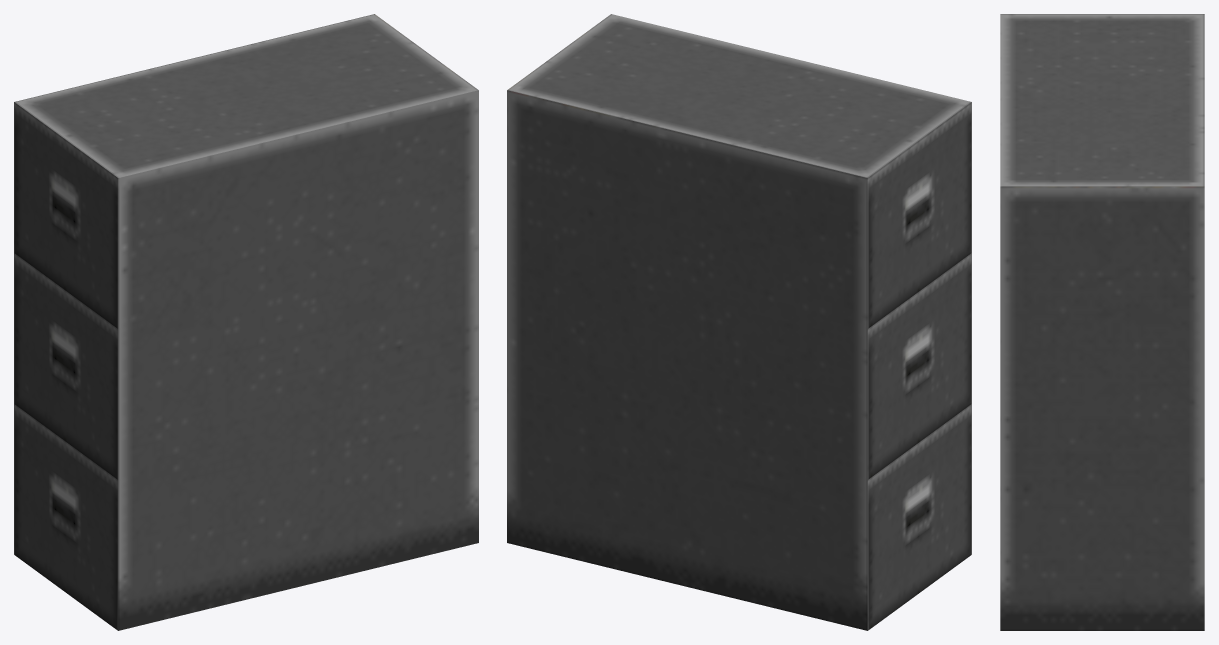
The picture shows the model from 3 angles, left to right: view 1: azimuth 30°, elevation 25°; view 2: azimuth 150°, elevation 25°; view 3: azimuth 270°, elevation 25°; orthographic projection.
Visible parts, largest first — view 1: file_cabinet01; view 2: file_cabinet01; view 3: file_cabinet01.
Part boxes in pixels (left/top/right/bottom): file_cabinet01: left=14, top=14, right=478, bottom=630; file_cabinet01: left=507, top=14, right=971, bottom=630; file_cabinet01: left=1000, top=14, right=1204, bottom=630.
Size of the model in its own units: 50 by 120 by 100.
